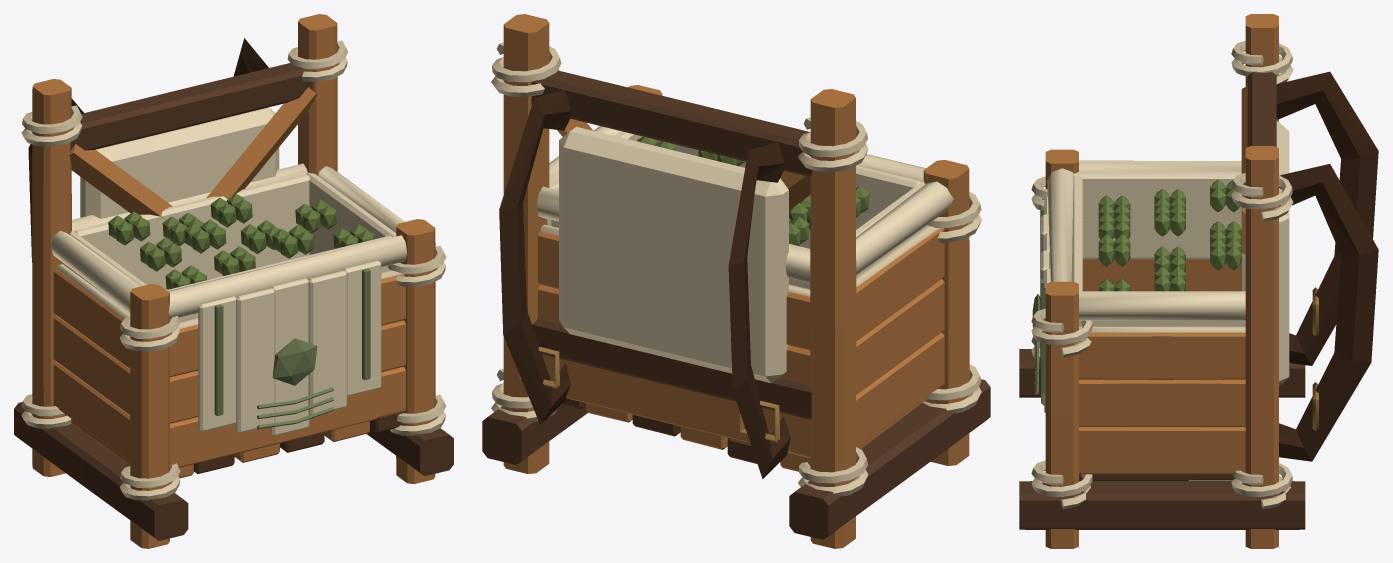
Rendered from prop_trade_pack_olive_a.glb.
3 views of the same model, side by side, from view 1: azimuth 30°, elevation 25°; view 2: azimuth 150°, elevation 25°; view 3: azimuth 270°, elevation 25° (orthographic). The views are drawn at different scales.
Visible parts, largest first — view 1: prop_trade_pack_olive_a_LOD0; view 2: prop_trade_pack_olive_a_LOD0; view 3: prop_trade_pack_olive_a_LOD0.
Part boxes in pixels (left/top/right/bottom): prop_trade_pack_olive_a_LOD0: left=14, top=14, right=453, bottom=548; prop_trade_pack_olive_a_LOD0: left=482, top=14, right=990, bottom=548; prop_trade_pack_olive_a_LOD0: left=1019, top=14, right=1378, bottom=548.
Size of what is drawn, in the model's own units: 0.8384 by 0.96 by 0.8041.
